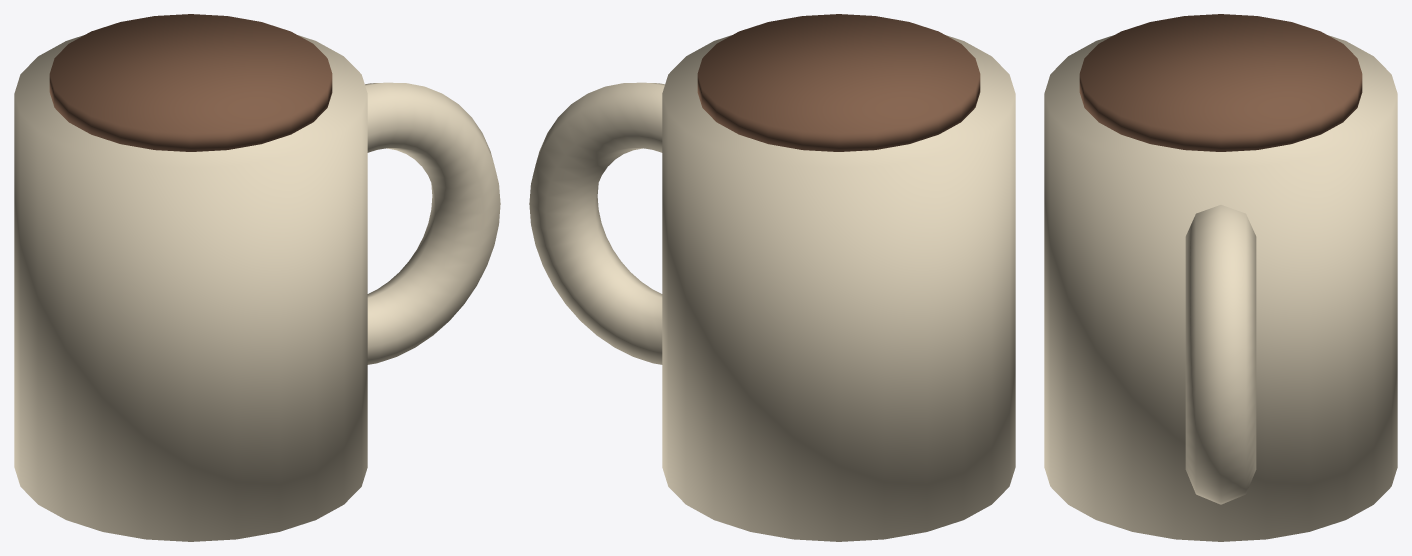
The model's file is mug.glb.
3 renders of one model, left to right at view 1: azimuth 30°, elevation 25°; view 2: azimuth 150°, elevation 25°; view 3: azimuth 270°, elevation 25°, orthographic.
Parts seen in each view (by area): view 1: root_cream, root_wood; view 2: root_cream, root_wood; view 3: root_cream, root_wood.
Boxes of the visible parts, x1=… form: root_cream: x1=14, y1=35, x2=500, y2=541; root_wood: x1=49, y1=14, x2=332, y2=151; root_cream: x1=529, y1=35, x2=1015, y2=541; root_wood: x1=697, y1=14, x2=980, y2=151; root_cream: x1=1044, y1=35, x2=1397, y2=541; root_wood: x1=1079, y1=14, x2=1362, y2=151.
Size of the model in its own units: 0.18 by 0.1475 by 0.12.
